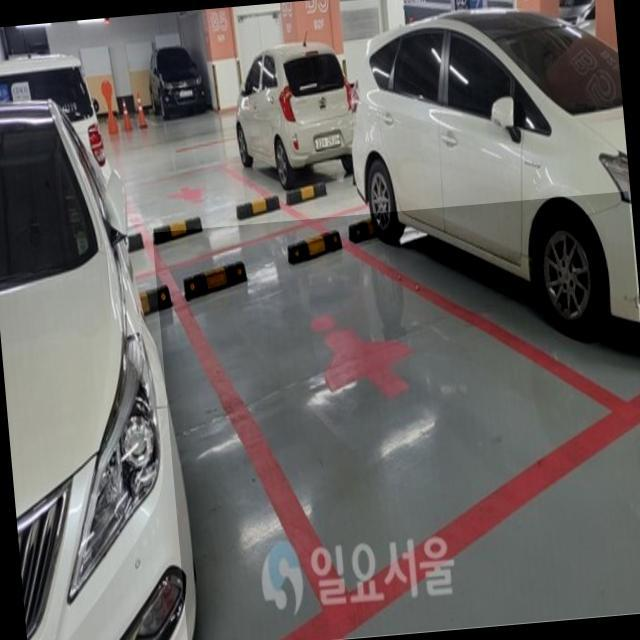empty: (155, 219, 640, 638)
